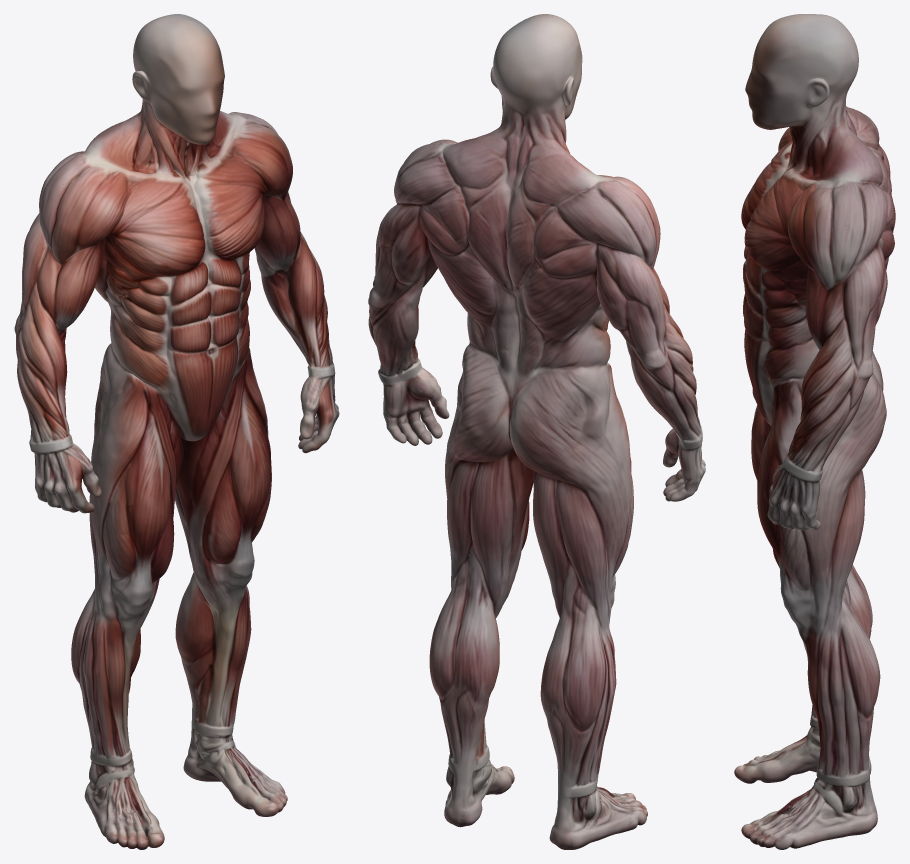
Rendered from rambutan.glb.
3 renders of one model, left to right at view 1: azimuth 30°, elevation 25°; view 2: azimuth 150°, elevation 25°; view 3: azimuth 270°, elevation 25°, orthographic.
Parts seen in each view (by area): view 1: tripo_part_0, tripo_part_2, tripo_part_1, tripo_part_5, tripo_part_6, tripo_part_4, tripo_part_10, tripo_part_7, tripo_part_3, tripo_part_8, tripo_part_11, tripo_part_12 (+1 smaller); view 2: tripo_part_0, tripo_part_2, tripo_part_1, tripo_part_5, tripo_part_6, tripo_part_4, tripo_part_10, tripo_part_3, tripo_part_9, tripo_part_7, tripo_part_11, tripo_part_8 (+1 smaller); view 3: tripo_part_1, tripo_part_0, tripo_part_4, tripo_part_6, tripo_part_7, tripo_part_8, tripo_part_9, tripo_part_3, tripo_part_12, tripo_part_2.
Part boxes in pixels (bbox=[...]): tripo_part_0: bbox=[84, 99, 267, 441]; tripo_part_2: bbox=[71, 343, 183, 756]; tripo_part_1: bbox=[175, 347, 271, 759]; tripo_part_5: bbox=[20, 151, 128, 334]; tripo_part_6: bbox=[132, 14, 224, 144]; tripo_part_4: bbox=[223, 112, 300, 276]; tripo_part_10: bbox=[14, 284, 69, 442]; tripo_part_7: bbox=[254, 232, 332, 366]; tripo_part_3: bbox=[84, 747, 164, 849]; tripo_part_8: bbox=[183, 734, 287, 816]; tripo_part_11: bbox=[29, 433, 101, 513]; tripo_part_12: bbox=[132, 99, 219, 178]; tripo_part_0: bbox=[420, 105, 610, 414]; tripo_part_2: bbox=[508, 362, 633, 787]; tripo_part_1: bbox=[429, 345, 533, 810]; tripo_part_5: bbox=[557, 175, 669, 360]; tripo_part_6: bbox=[490, 14, 582, 119]; tripo_part_4: bbox=[374, 139, 457, 308]; tripo_part_10: bbox=[626, 304, 701, 440]; tripo_part_3: bbox=[549, 772, 647, 849]; tripo_part_9: bbox=[378, 358, 449, 445]; tripo_part_7: bbox=[368, 261, 427, 376]; tripo_part_11: bbox=[663, 424, 705, 501]; tripo_part_8: bbox=[444, 760, 514, 827]; tripo_part_1: bbox=[757, 373, 886, 815]; tripo_part_0: bbox=[741, 98, 895, 425]; tripo_part_4: bbox=[787, 178, 887, 359]; tripo_part_6: bbox=[745, 14, 858, 129]; tripo_part_7: bbox=[787, 320, 873, 472]; tripo_part_8: bbox=[741, 778, 877, 849]; tripo_part_9: bbox=[767, 454, 822, 530]; tripo_part_3: bbox=[734, 715, 871, 783]; tripo_part_12: bbox=[788, 98, 837, 179]; tripo_part_2: bbox=[751, 351, 883, 718].
Bounding box in the file's own units: 0.4101 × 1 × 0.1846.
1 material, 1 textured.
